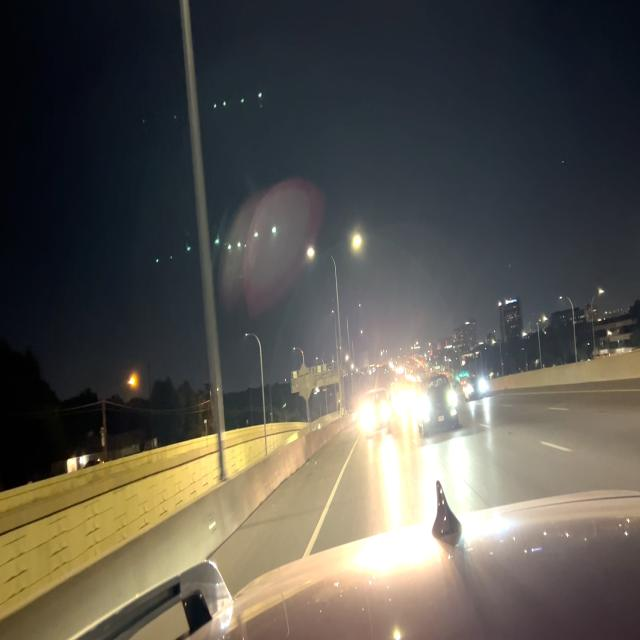back-of-sign: (296, 361, 316, 403)
